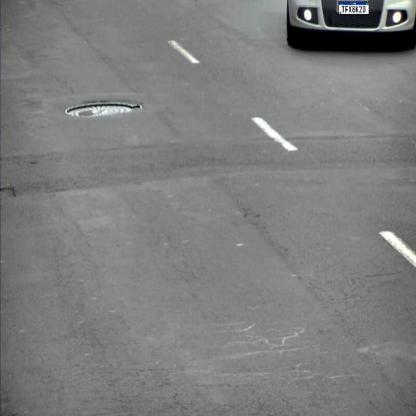PlacaM: (339, 2, 369, 14)
